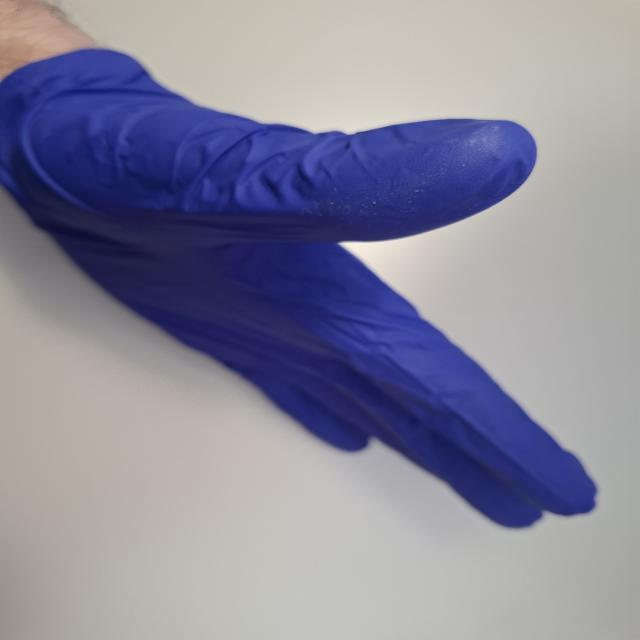glove_on: (0, 41, 607, 534)
